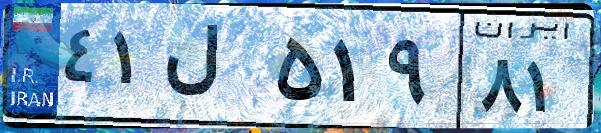1: (330, 28, 385, 110), (525, 38, 570, 115), (110, 28, 158, 98)
4: (57, 26, 110, 100)
5: (270, 28, 330, 110)
8: (475, 38, 525, 113)
9: (385, 28, 445, 110)
ل: (158, 20, 270, 120)
